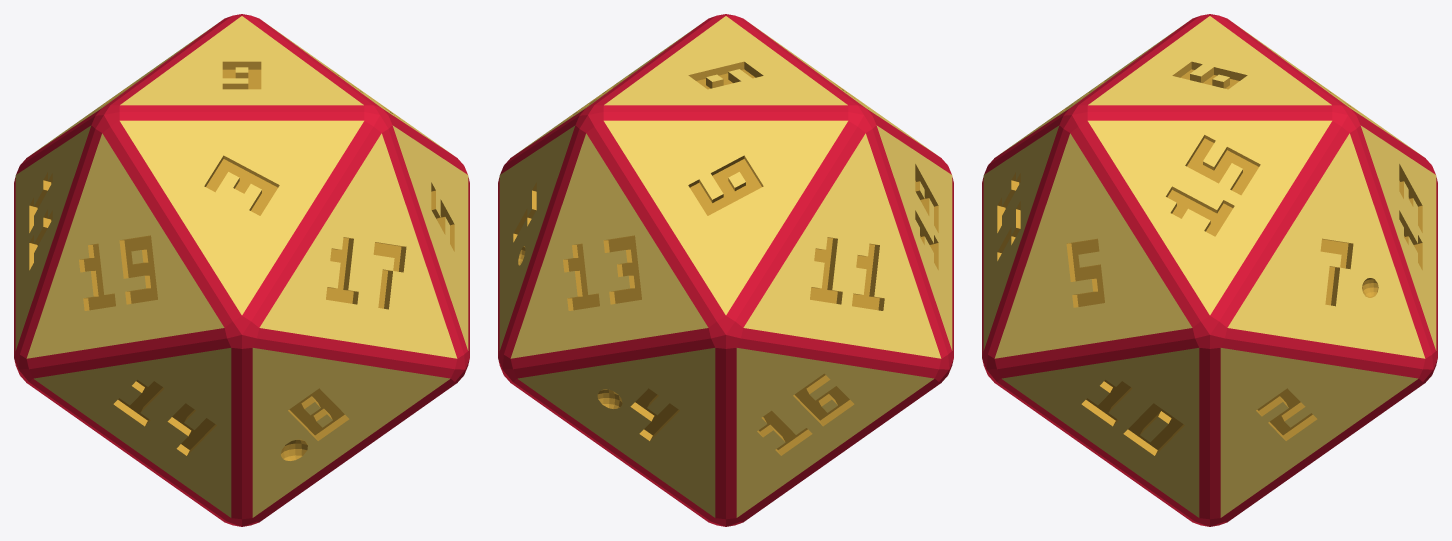
The model's file is Die_Edam_d20_Lucky9.fbx.
3 renders of one model, left to right at view 1: azimuth 30°, elevation 25°; view 2: azimuth 150°, elevation 25°; view 3: azimuth 270°, elevation 25°, orthographic.
Visible parts, largest first — view 1: Die_Edam_d20_Lucky9; view 2: Die_Edam_d20_Lucky9; view 3: Die_Edam_d20_Lucky9.
Part boxes in pixels (box(x1,y1,x2,y2)): Die_Edam_d20_Lucky9: box(14, 14, 469, 526); Die_Edam_d20_Lucky9: box(498, 14, 953, 526); Die_Edam_d20_Lucky9: box(982, 14, 1437, 526).
Bounding box in the file's own units: 1.79 × 1.5 × 1.58.
